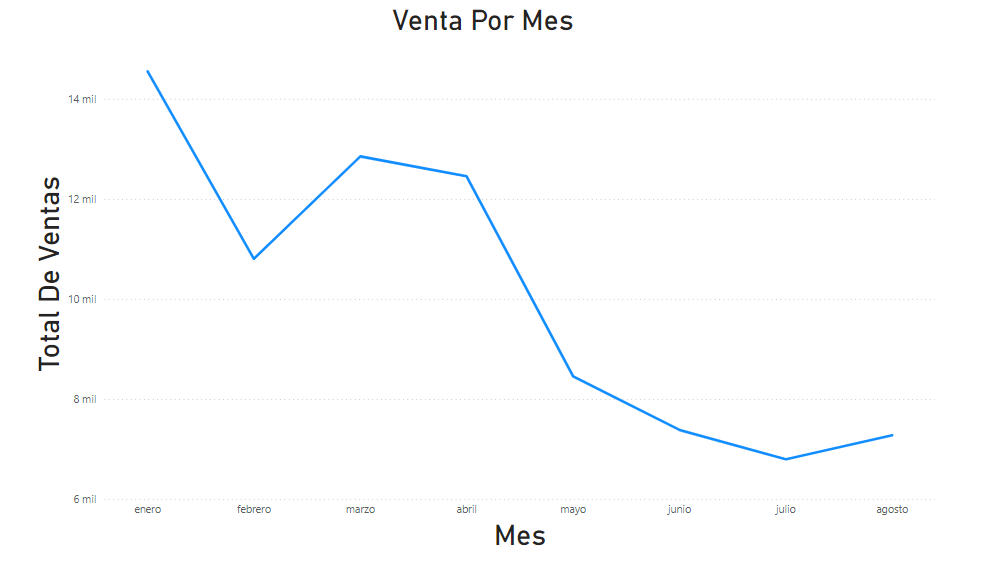

The dashboard page shown, as its layout file describes it:
{"tool":"powerbi","page":{"name":"Venta Mes","canvas":[1280,720],"ordinal":0},"visuals":[{"type":"lineChart","title":"Venta Por Mes","fields":{"Y":["Sum(public vivvidero.Total Revenue)"],"Category":["public vivvidero.Date.Variación.Jerarquía de fechas.Mes"]},"box":[83,44.8,1040.3,628.1],"z":0}]}

Visuals, with their boxes in screenshot pixels (x1, y1, x2, y2), scaled from the page's 1280x720 canvas onto the 1000x568 screenshot:
"Venta Por Mes" lineChart: Rect(65, 35, 878, 531)
